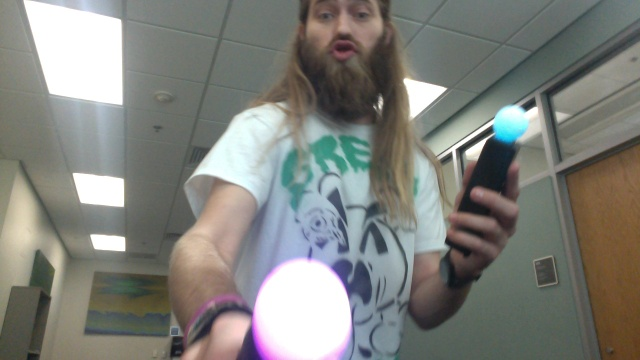wand: (253, 258, 352, 360), (494, 106, 527, 142)
